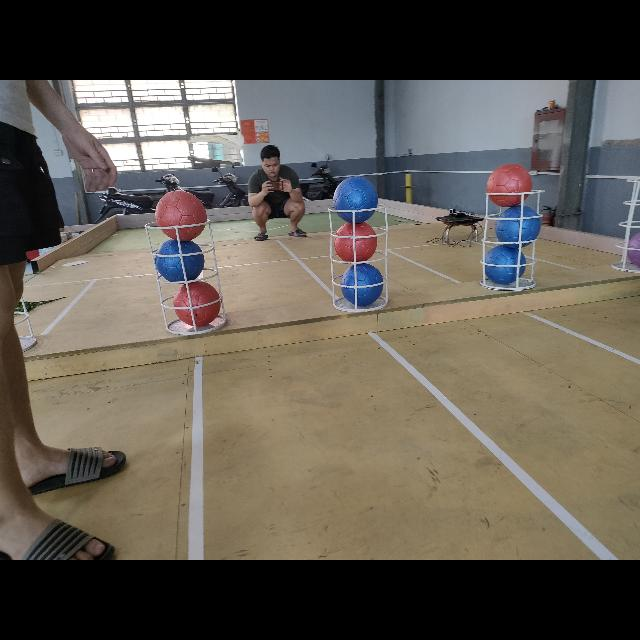B: (332, 176, 378, 224), (154, 238, 204, 282), (496, 206, 540, 248), (341, 264, 383, 306), (484, 246, 526, 284)
R: (155, 190, 207, 240), (173, 281, 221, 327), (486, 164, 532, 206), (334, 221, 378, 263)
